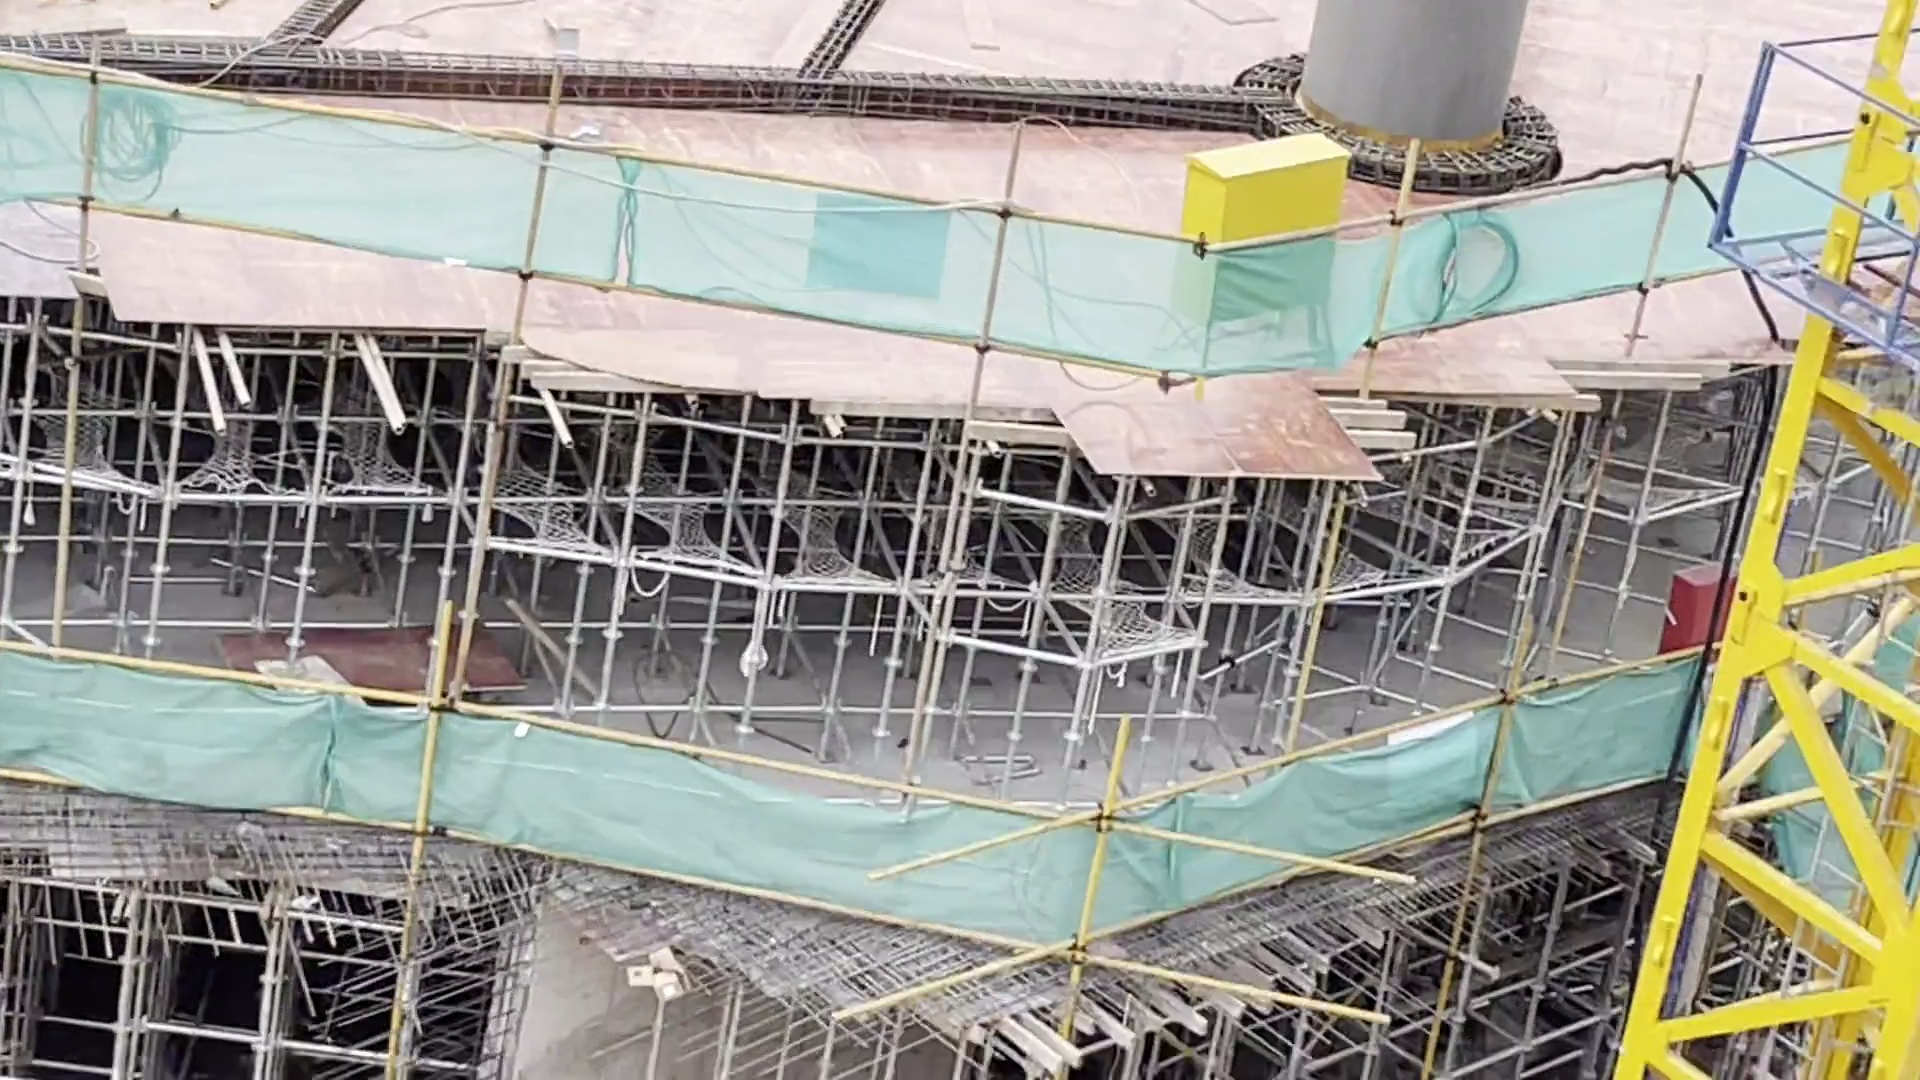ebox: (1178, 128, 1349, 396)
